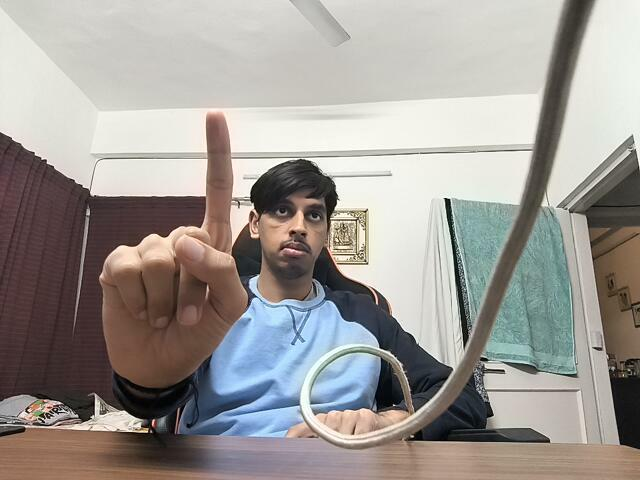UP: (92, 110, 253, 400)
